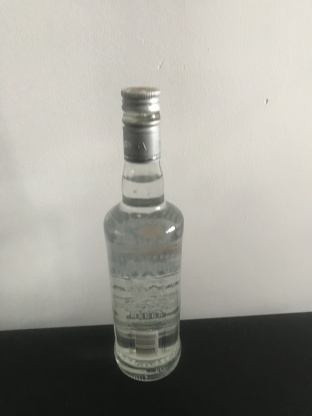nakretka: (119, 84, 162, 164), (119, 80, 161, 160)
